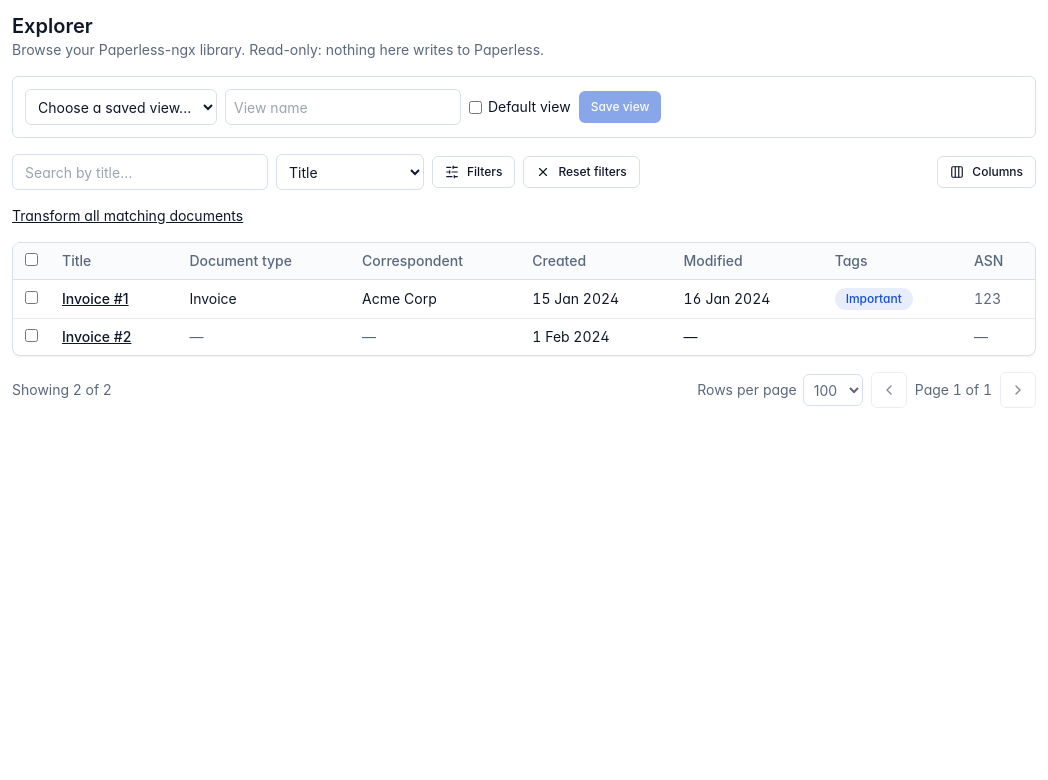
Test: ExplorerPage - Filter Builder (M4) › shows the operator caveat the backend attached
Expected: the link "Invoice #1" is shown, x1=62 y1=290 x2=129 y2=307
Click the button "Filters". click: [474, 172]
box: x1=432 y1=156 x2=515 y2=188
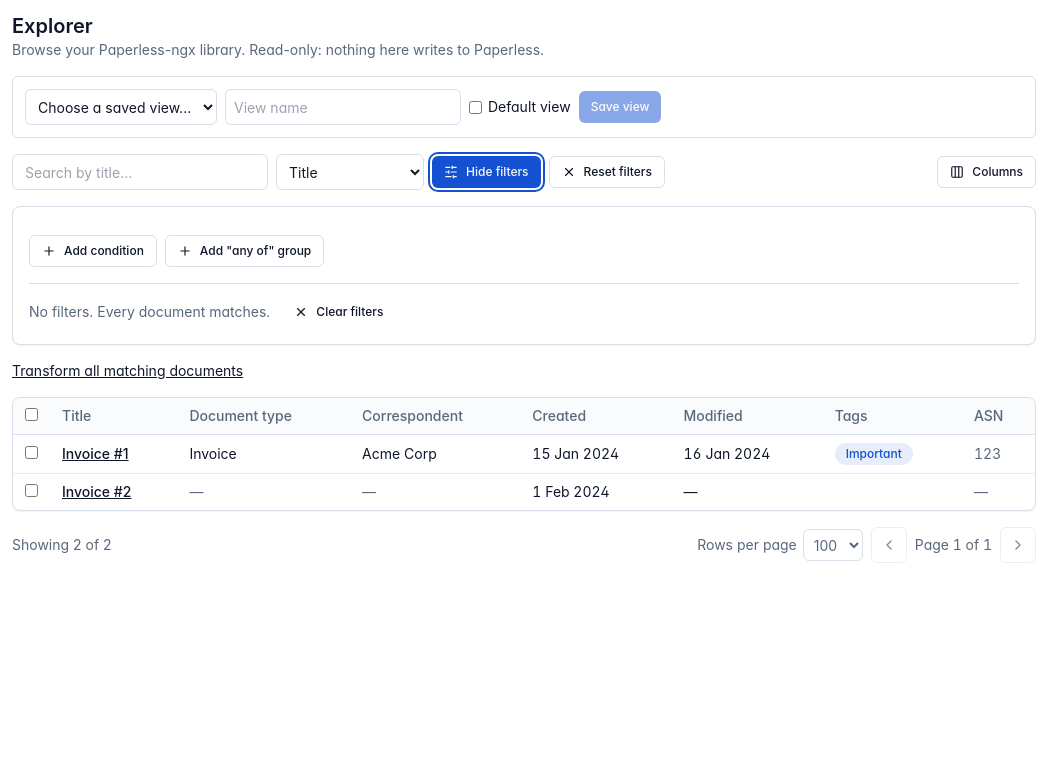
Click the button "Add condition". click: [93, 251]
box: x1=29 y1=235 x2=157 y2=267
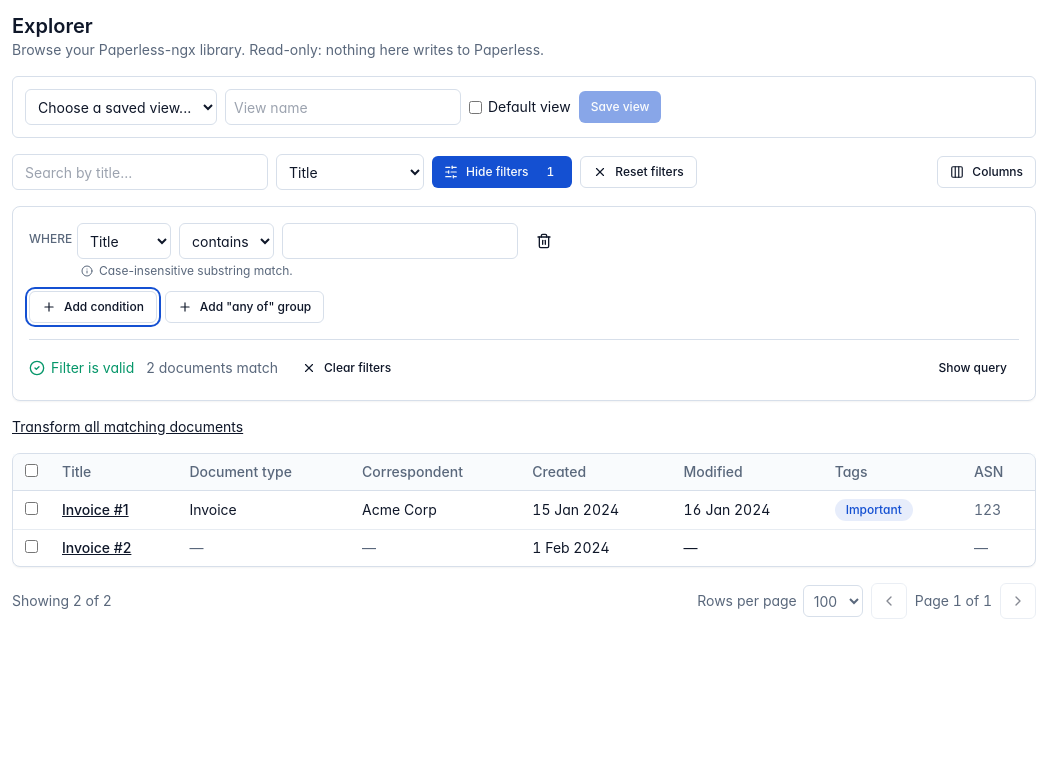
Now the text "Case-insensitive substring match." is shown, box x1=81 y1=263 x2=293 y2=278
